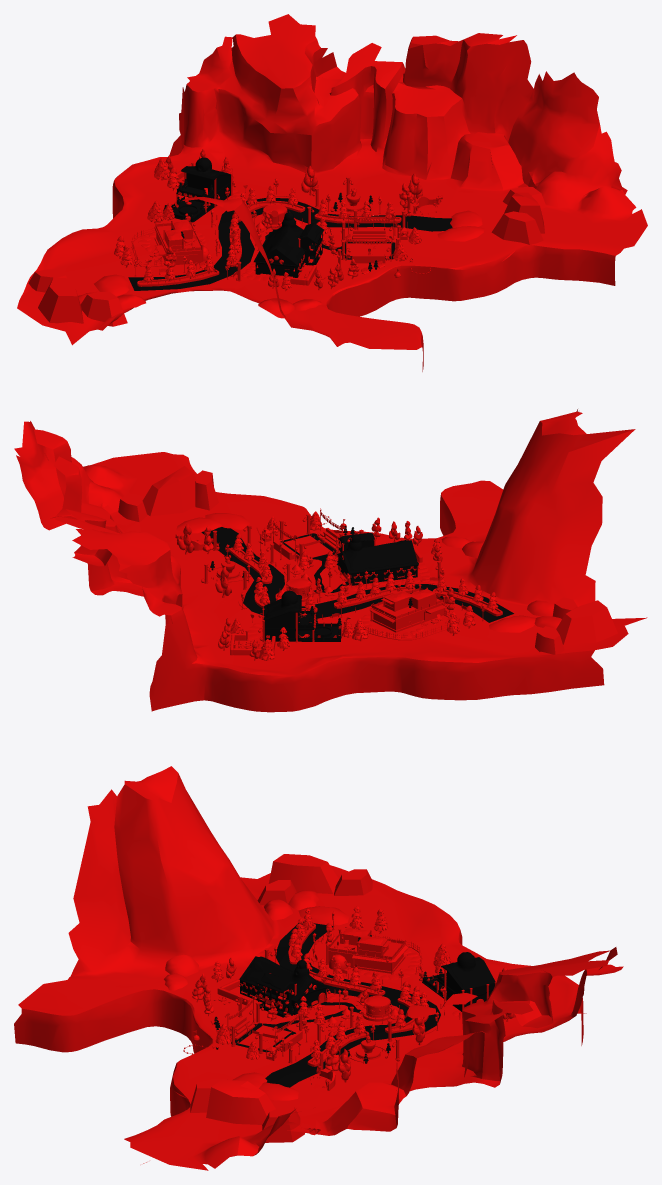
File: Individual_BeverlyChills_EASTER_01.glb
3 views of the same model, one above another, from view 1: azimuth 30°, elevation 25°; view 2: azimuth 150°, elevation 25°; view 3: azimuth 270°, elevation 25° (orthographic). The views are drawn at different scales.
Parts seen in each view (by area): view 1: pasted__BeverlyChillsRoad_01, pasted__polySurface154, polySurface9, pasted__Object_RoadIslands, pasted__Object_IceRock4, pasted__Building_LuxuryHouse3, pasted__Object_IceRock8, pasted__Object_IceRock3, pasted__Object_IceRock6, pasted__Building_TennisCourt2, pasted__SnowPatch6, pasted__SnowPatch8 (+1 smaller); view 2: pasted__BeverlyChillsRoad_01, pasted__polySurface154, polySurface9, pasted__Building_LuxuryHouse3, pasted__Object_IceRock6, pasted__Object_IceRock4, pasted__Object_RoadIslands, pasted__Object_IceRock8, pasted__Object_IceRock5, pasted__Object_IceRock7, pasted__SnowPatch8, pasted__Building_TennisCourt2 (+3 smaller); view 3: pasted__BeverlyChillsRoad_01, pasted__polySurface154, pasted__Object_IceRock6, pasted__Building_LuxuryHouse3, polySurface9, pasted__Object_IceRock4, pasted__Object_RoadIslands, pasted__Object_IceRock7, pasted__Object_IceRock5, pasted__Object_IceRock3, pasted__SnowPatch8, pasted__Building_RoundCoffeeShop1.
Boxes of the visible parts, left/top/right/bottom form: pasted__BeverlyChillsRoad_01: left=17, top=14, right=647, bottom=371; pasted__polySurface154: left=253, top=212, right=323, bottom=277; polySurface9: left=171, top=157, right=230, bottom=222; pasted__Object_RoadIslands: left=137, top=201, right=401, bottom=286; pasted__Object_IceRock4: left=38, top=277, right=83, bottom=323; pasted__Building_LuxuryHouse3: left=154, top=220, right=201, bottom=264; pasted__Object_IceRock8: left=491, top=211, right=543, bottom=244; pasted__Object_IceRock3: left=80, top=291, right=127, bottom=326; pasted__Object_IceRock6: left=504, top=192, right=544, bottom=233; pasted__Building_TennisCourt2: left=346, top=243, right=391, bottom=256; pasted__SnowPatch6: left=437, top=226, right=484, bottom=241; pasted__SnowPatch8: left=94, top=274, right=129, bottom=296; pasted__BeverlyChillsRoad_01: left=14, top=409, right=647, bottom=712; pasted__polySurface154: left=336, top=533, right=418, bottom=585; polySurface9: left=263, top=590, right=341, bottom=641; pasted__Building_LuxuryHouse3: left=372, top=588, right=443, bottom=632; pasted__Object_IceRock6: left=142, top=466, right=196, bottom=516; pasted__Object_IceRock4: left=556, top=600, right=617, bottom=644; pasted__Object_RoadIslands: left=229, top=547, right=502, bottom=616; pasted__Object_IceRock8: left=195, top=470, right=218, bottom=510; pasted__Object_IceRock5: left=535, top=626, right=564, bottom=654; pasted__Object_IceRock7: left=118, top=493, right=147, bottom=521; pasted__SnowPatch8: left=489, top=615, right=535, bottom=632; pasted__Building_TennisCourt2: left=284, top=536, right=332, bottom=558; pasted__BeverlyChillsRoad_01: left=14, top=766, right=623, bottom=1170; pasted__polySurface154: left=239, top=956, right=329, bottom=1017; pasted__Object_IceRock6: left=206, top=1079, right=275, bottom=1124; pasted__Building_LuxuryHouse3: left=328, top=927, right=405, bottom=973; polySurface9: left=422, top=952, right=495, bottom=1011; pasted__Object_IceRock4: left=268, top=854, right=338, bottom=893; pasted__Object_RoadIslands: left=288, top=924, right=428, bottom=1066; pasted__Object_IceRock7: left=262, top=1106, right=304, bottom=1142; pasted__Object_IceRock5: left=334, top=869, right=372, bottom=895; pasted__Object_IceRock3: left=257, top=880, right=296, bottom=905; pasted__SnowPatch8: left=298, top=906, right=349, bottom=925; pasted__Building_RoundCoffeeShop1: left=359, top=995, right=392, bottom=1021.
Bounding box in the file's own units: 119 × 33.84 × 104.
